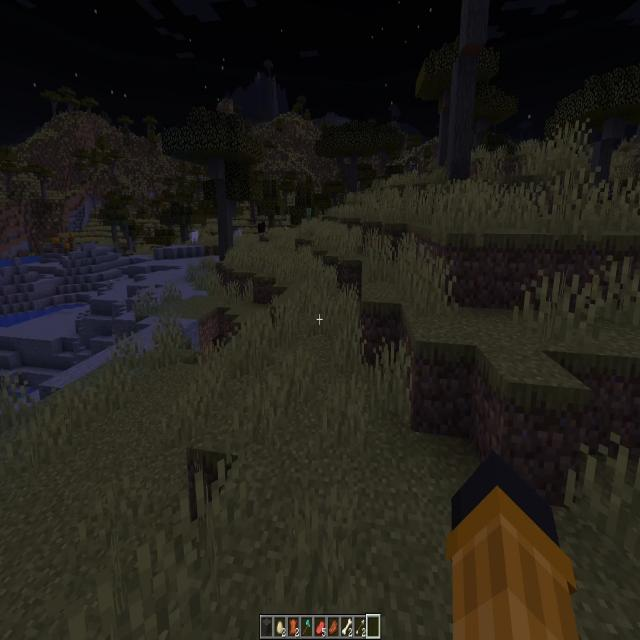Chicken: (284, 224, 287, 230)
Creeper: (306, 207, 312, 225)
Sheep: (256, 220, 266, 235), (189, 228, 199, 242), (234, 227, 243, 240)
